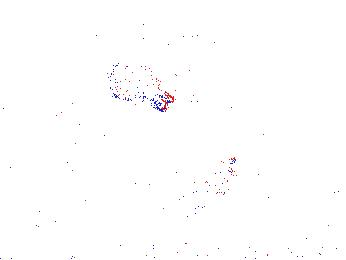flame jellyfish: (104, 51, 175, 114), (177, 157, 240, 226), (2, 168, 79, 222)
